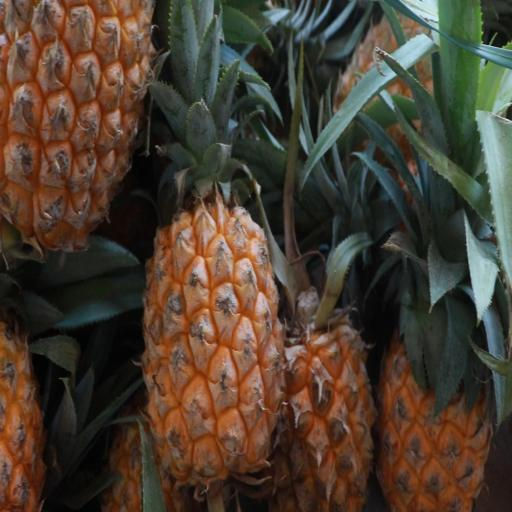Pineapple - v8 v1: (138, 128, 288, 490), (373, 187, 496, 512), (260, 248, 379, 508)
